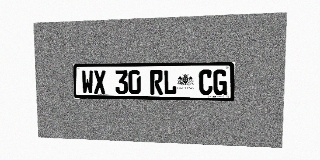0: (128, 70, 141, 94)
3: (115, 70, 128, 94)
C: (199, 69, 213, 95)
G: (213, 69, 227, 95)
L: (163, 70, 176, 95)
R: (150, 70, 163, 95)
W: (81, 70, 94, 94)
X: (93, 70, 106, 94)
